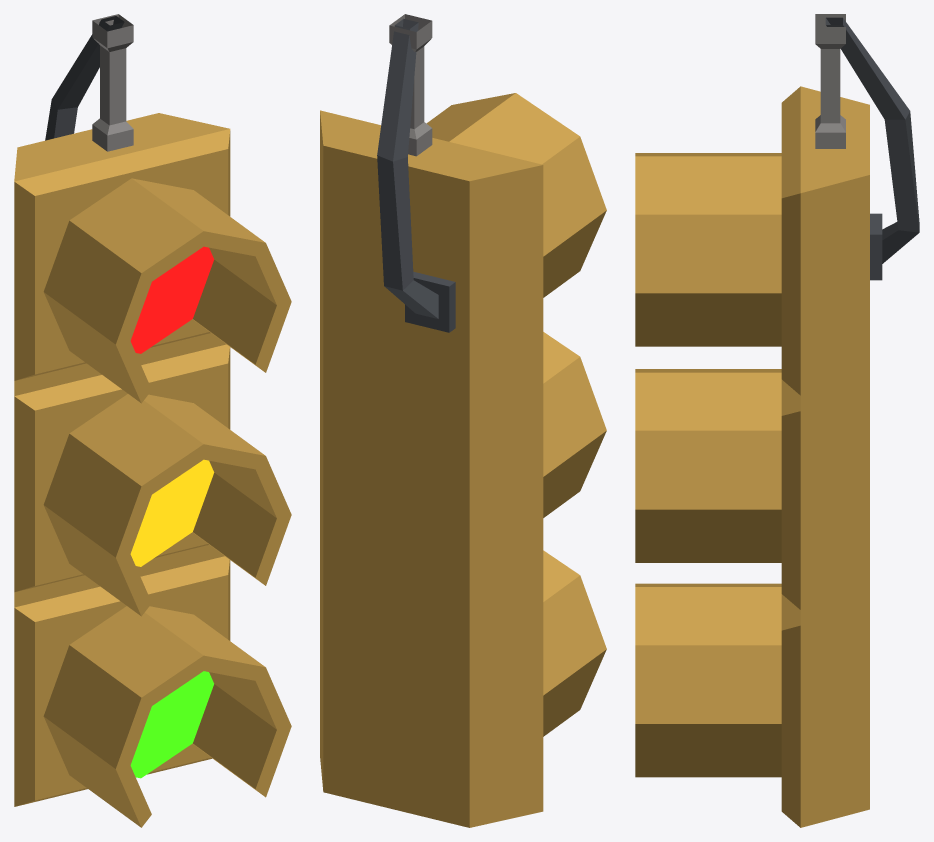
File: SM_Prop_TrafficLight_02.fbx
The picture shows the model from 3 angles, left to right: view 1: azimuth 30°, elevation 25°; view 2: azimuth 150°, elevation 25°; view 3: azimuth 270°, elevation 25°; orthographic projection. The views are drawn at different scales.
Visible parts, largest first — view 1: SM_Prop_TrafficLight_02; view 2: SM_Prop_TrafficLight_02; view 3: SM_Prop_TrafficLight_02.
Boxes of the visible parts, box(x1,y1,x2,y2) form: SM_Prop_TrafficLight_02: box(14, 14, 291, 827); SM_Prop_TrafficLight_02: box(320, 14, 606, 827); SM_Prop_TrafficLight_02: box(635, 14, 919, 827).
Bounding box in the file's own units: 32.72 × 108 × 36.74.
